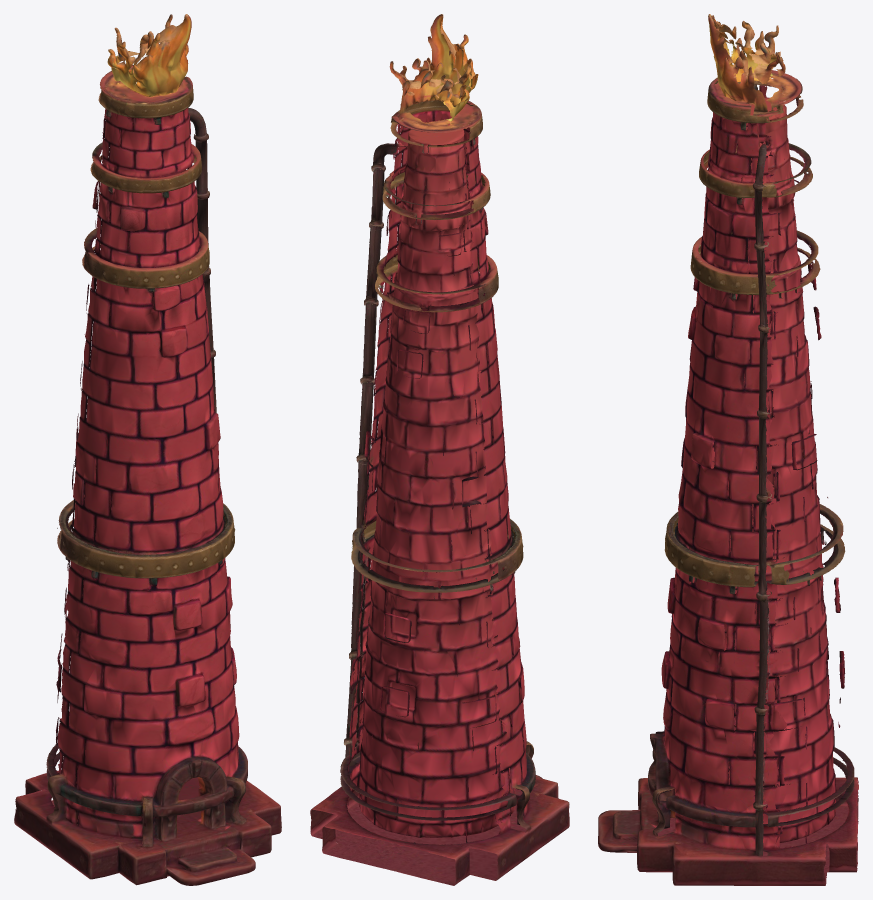
Rendered from kiln_tower.glb.
The picture shows the model from 3 angles, left to right: view 1: azimuth 30°, elevation 25°; view 2: azimuth 150°, elevation 25°; view 3: azimuth 270°, elevation 25°; orthographic projection. The views are drawn at different scales.
Bounding box in the file's own units: 0.4678 × 1.9 × 0.5394.
1 material, 1 textured.
